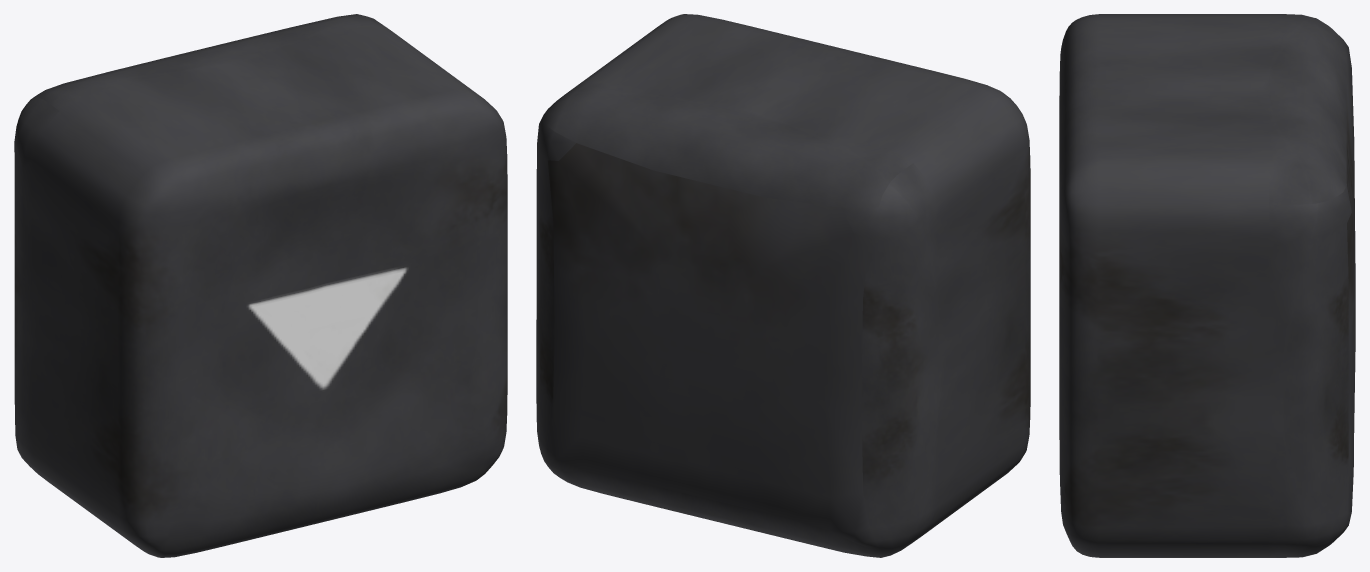
File: Button_27.dae
3 views of the same model, side by side, from view 1: azimuth 30°, elevation 25°; view 2: azimuth 150°, elevation 25°; view 3: azimuth 270°, elevation 25° (orthographic).
Visible parts, largest first — view 1: Button_27_LOD0; view 2: Button_27_LOD0; view 3: Button_27_LOD0.
Part boxes in pixels (<box>): Button_27_LOD0: <box>14,14,507,557</box>; Button_27_LOD0: <box>536,14,1030,557</box>; Button_27_LOD0: <box>1059,14,1355,557</box>.
Bounding box in the file's own units: 6.94 × 6.84 × 4.62.
